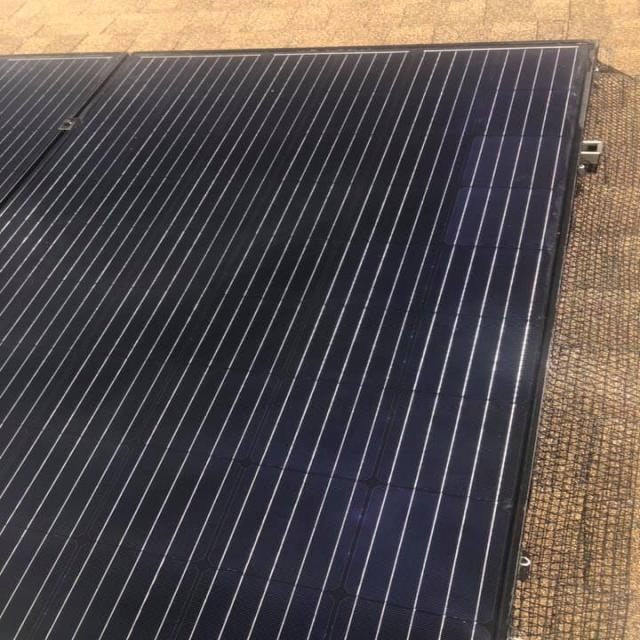no faulty: (2, 51, 582, 640)
